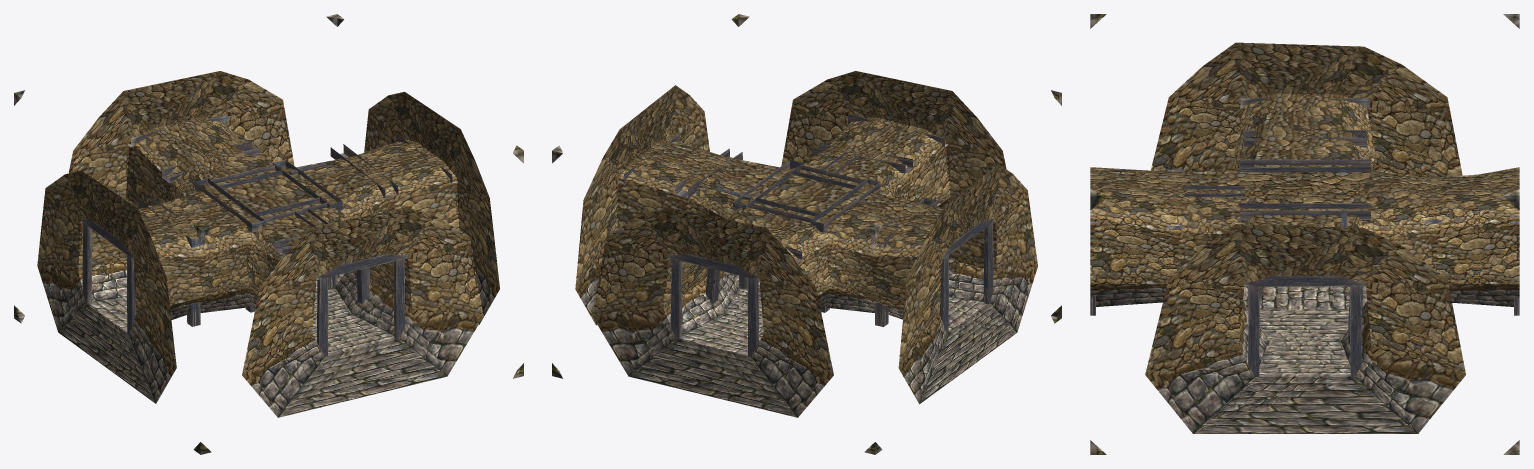
Rendered from Lbm_4b.glb.
3 renders of one model, left to right at view 1: azimuth 30°, elevation 25°; view 2: azimuth 150°, elevation 25°; view 3: azimuth 270°, elevation 25°, orthographic. The views are drawn at different scales.
Parts seen in each view (by area): view 1: Lbm_4b; view 2: Lbm_4b; view 3: Lbm_4b.
Part boxes in pixels (bbox=[...]): Lbm_4b: bbox=[14, 14, 523, 454]; Lbm_4b: bbox=[552, 14, 1061, 454]; Lbm_4b: bbox=[1090, 14, 1519, 454].
Size of the model in its own units: 15 by 10 by 15.
Materials: 5 (5 with a texture image).
